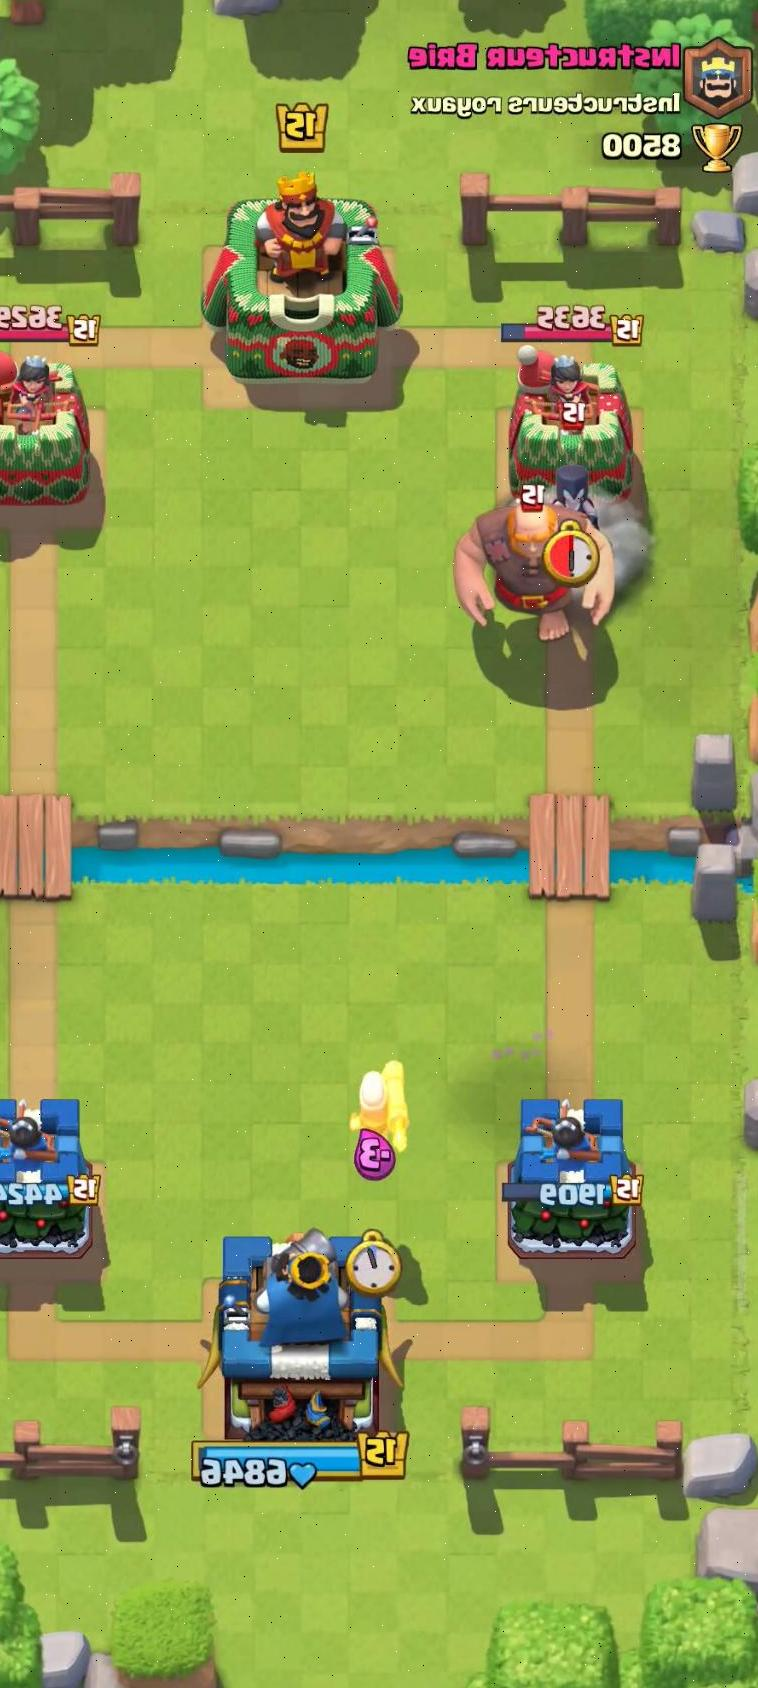enemy_giant: (448, 484, 620, 648)
enemy_night_witch: (549, 453, 605, 533)
player_firecraker: (342, 1053, 419, 1188)
